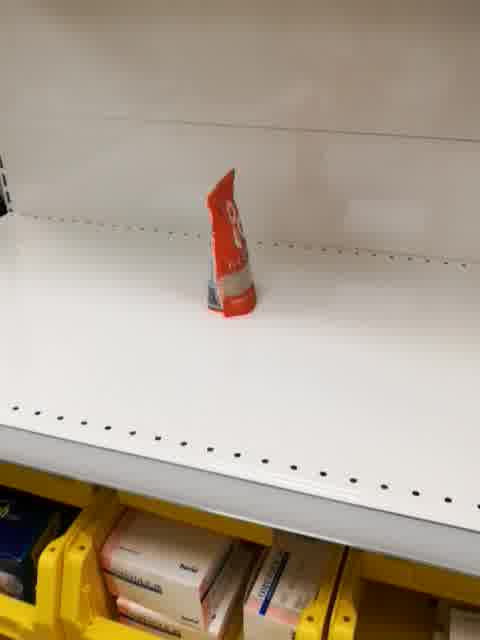whitechia: (202, 165, 258, 319)
